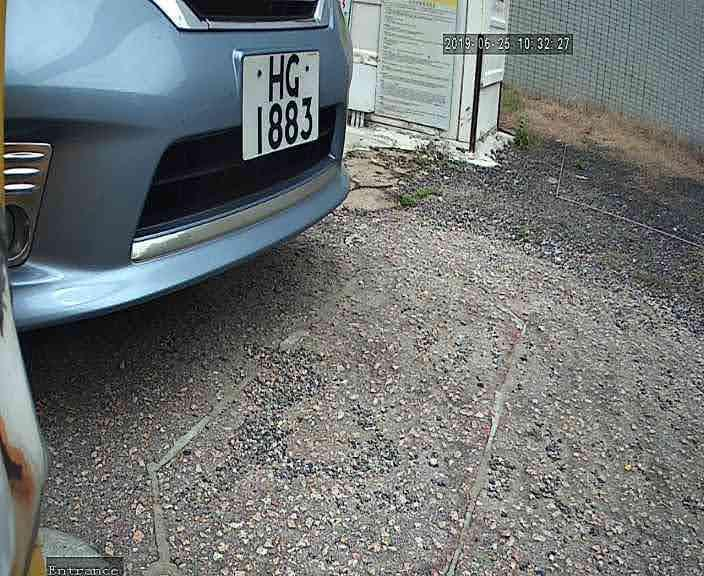privatecar: (1, 1, 364, 346)
